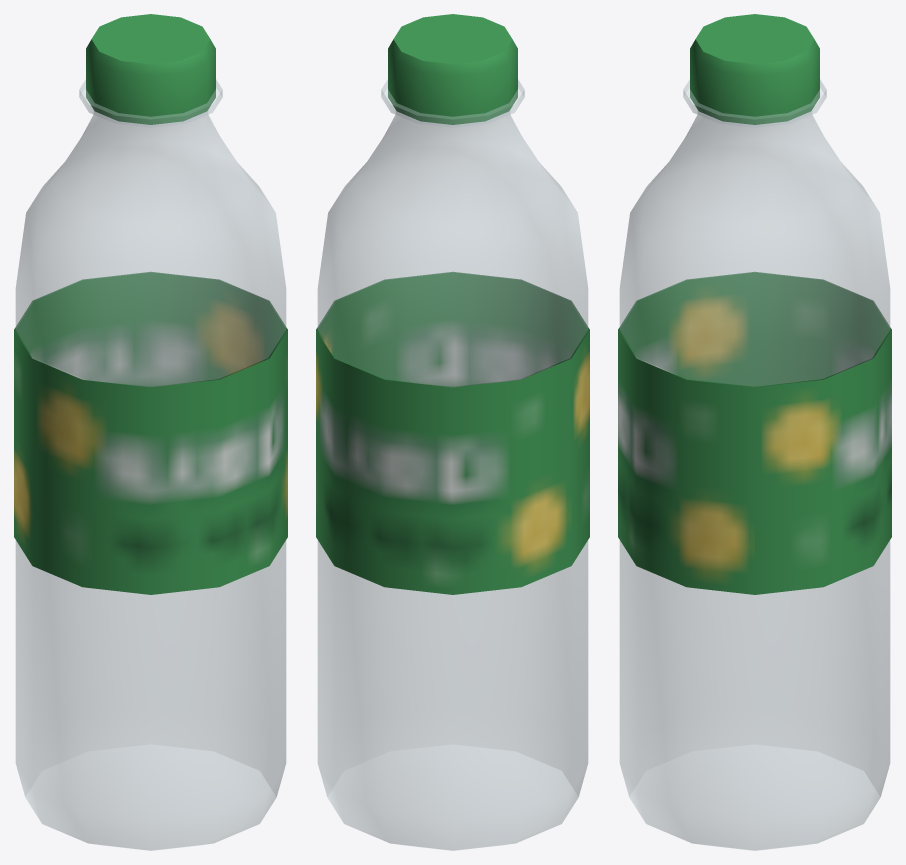
Rendered from SC_Prod_Cider_PET.gltf.
3 views of the same model, side by side, from view 1: azimuth 30°, elevation 25°; view 2: azimuth 150°, elevation 25°; view 3: azimuth 270°, elevation 25° (orthographic).
Parts seen in each view (by area): view 1: SC_Prod_Cider_PET; view 2: SC_Prod_Cider_PET; view 3: SC_Prod_Cider_PET.
Part boxes in pixels (<box>): SC_Prod_Cider_PET: <box>14,14,287,850</box>; SC_Prod_Cider_PET: <box>316,14,589,850</box>; SC_Prod_Cider_PET: <box>618,14,891,850</box>.
Bounding box in the file's own units: 0.0658 × 0.204 × 0.0658.
3 materials, 3 textured.
